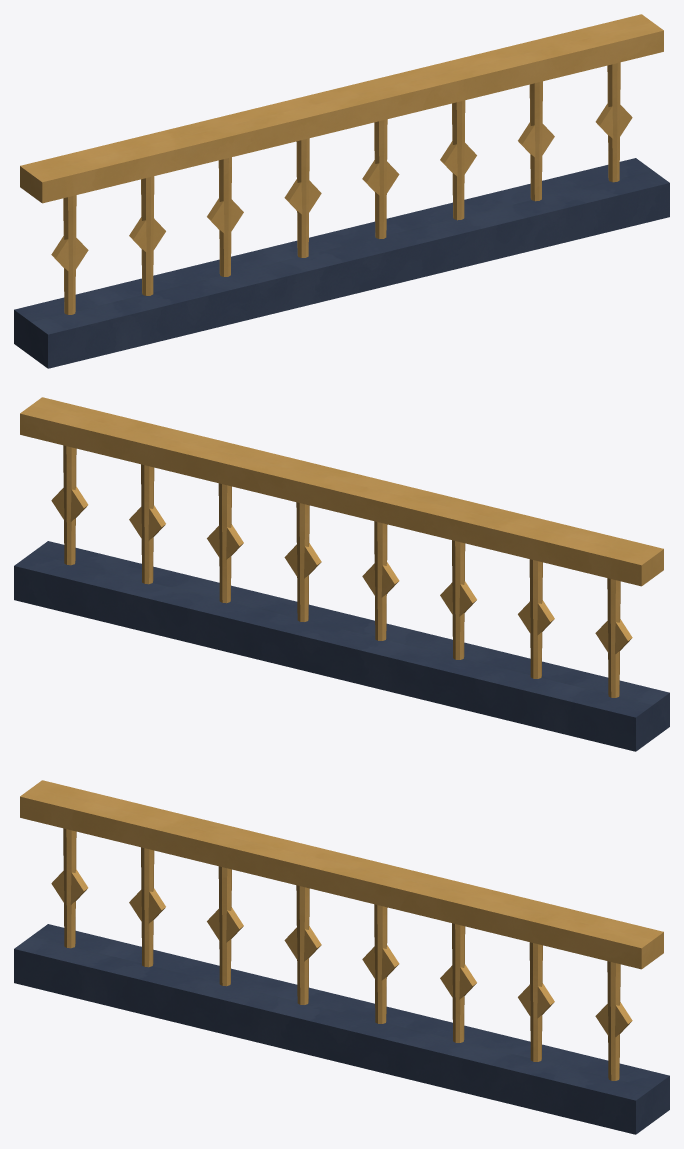
File: SM_Theater_Rail_Gallery4.fbx
The picture shows the model from 3 angles, top to bottom: view 1: azimuth 30°, elevation 25°; view 2: azimuth 150°, elevation 25°; view 3: azimuth 330°, elevation 25°; orthographic projection.
Visible parts, largest first — view 1: SM_Theater_Rail_Gallery4_LOD0; view 2: SM_Theater_Rail_Gallery4_LOD0; view 3: SM_Theater_Rail_Gallery4_LOD0.
Boxes of the visible parts, left/top/right/bottom form: SM_Theater_Rail_Gallery4_LOD0: left=14, top=14, right=669, bottom=368; SM_Theater_Rail_Gallery4_LOD0: left=14, top=397, right=669, bottom=751; SM_Theater_Rail_Gallery4_LOD0: left=14, top=780, right=669, bottom=1134.
Size of what is drawn, in the model's own units: 4 by 1.12 by 0.38.
